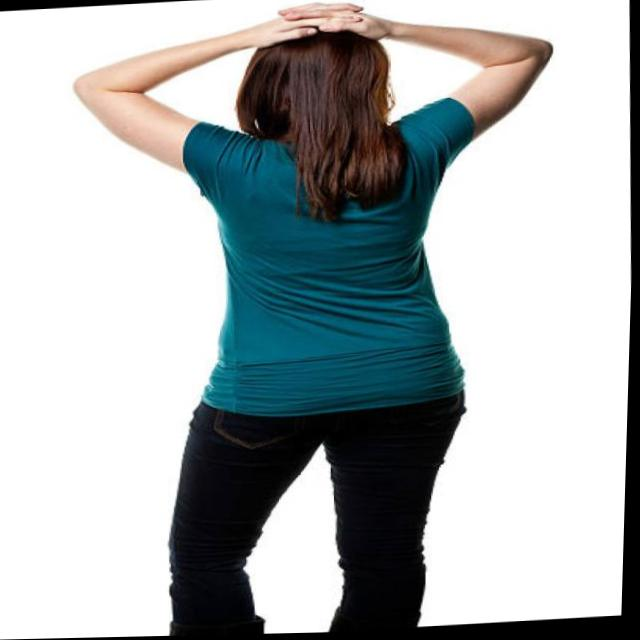no helmet: (237, 33, 389, 151)
